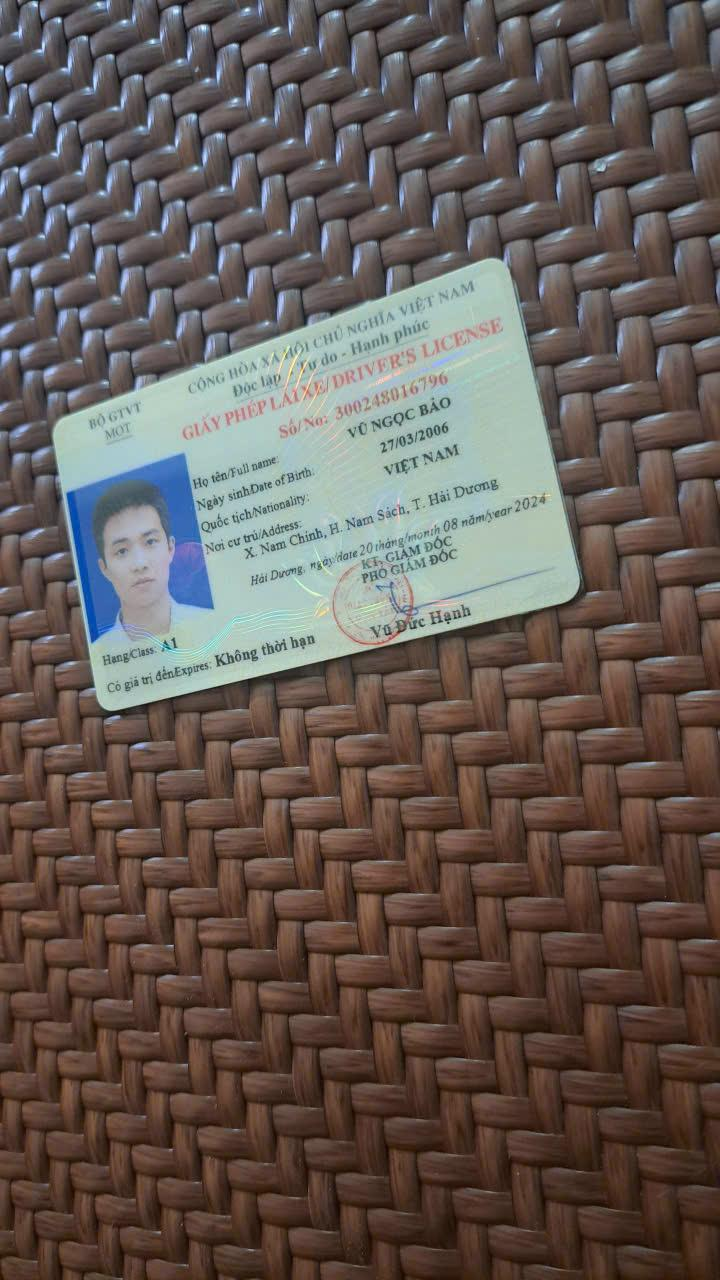gplx: (48, 253, 592, 728)
